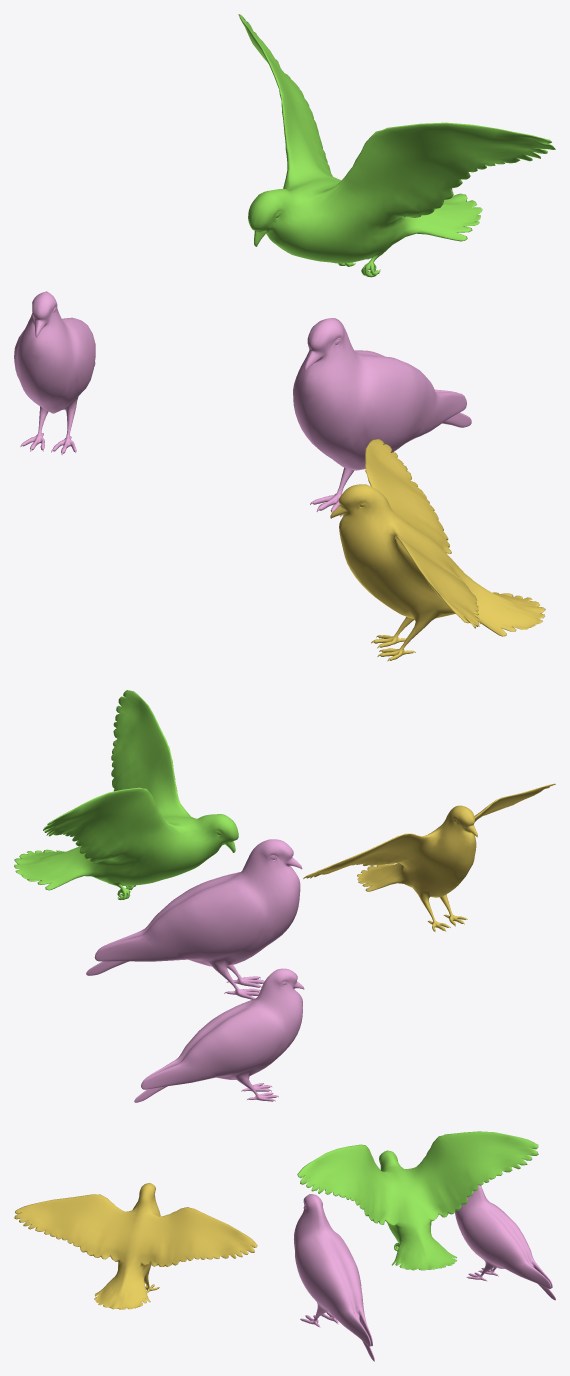
Rendered from pigeon.obj.
3 renders of one model, top to bottom at view 1: azimuth 30°, elevation 25°; view 2: azimuth 150°, elevation 25°; view 3: azimuth 270°, elevation 25°, orthographic. The views are drawn at different scales.
Visible parts, largest first — view 1: pigeon04, pigeon01, pigeon03, pigeon02; view 2: pigeon04, pigeon03, pigeon02, pigeon01; view 3: pigeon04, pigeon01, pigeon03, pigeon02.
Part boxes in pixels (x1,y1,x2,y2): pigeon04: (238, 14, 555, 277); pigeon01: (330, 439, 545, 661); pigeon03: (293, 318, 471, 516); pigeon02: (14, 291, 95, 454); pigeon04: (14, 690, 238, 900); pigeon03: (86, 839, 302, 999); pigeon02: (134, 968, 304, 1102); pigeon01: (303, 783, 555, 931); pigeon04: (297, 1131, 538, 1270); pigeon01: (14, 1183, 257, 1309); pigeon03: (294, 1194, 374, 1361); pigeon02: (455, 1185, 555, 1300).
Bounding box in the file's own units: 35.76 × 28.92 × 69.77.
